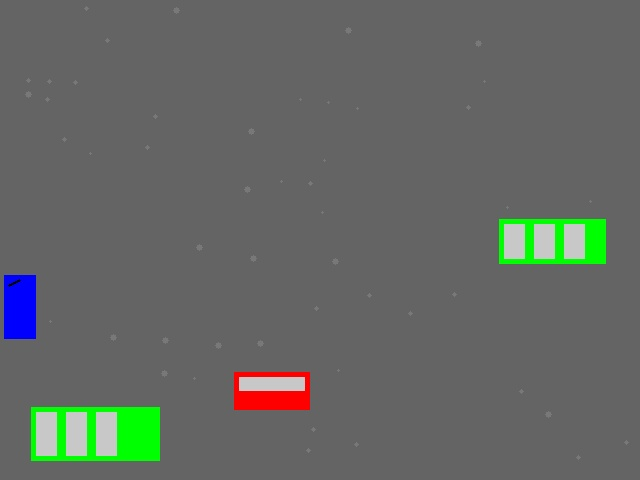bus: (31, 407, 159, 460), (499, 219, 605, 263)
car: (234, 372, 309, 409)
motorcycle: (4, 275, 35, 338)
